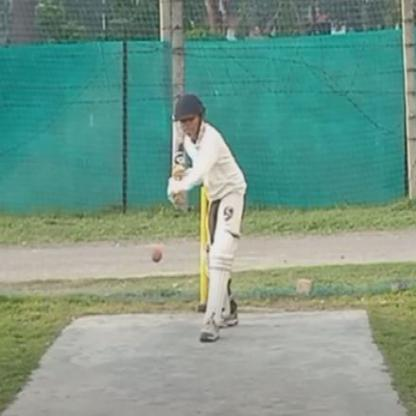ball: (148, 242, 165, 269)
